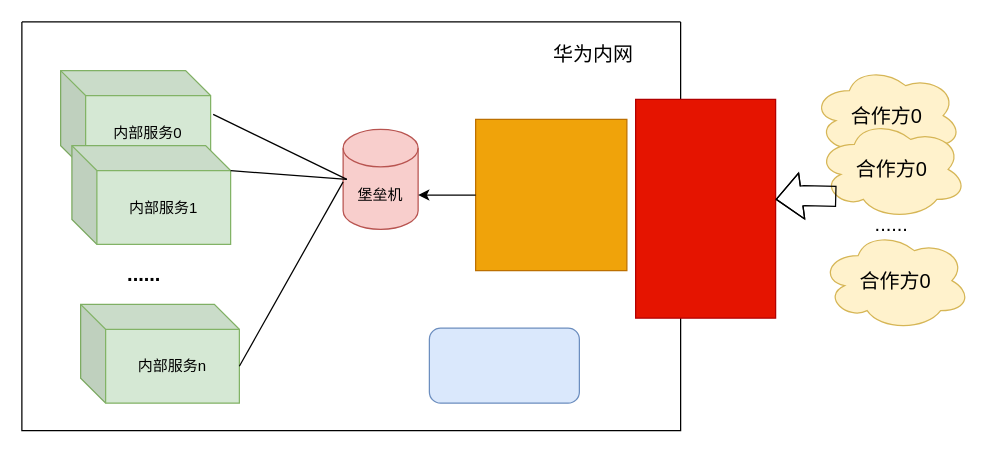
Image size: 993x453. Some labels were removed from this diagram. The shapes that lost their labels are listed below. From the top down, each one's centre as x and y in pixels, then its label:
At [550,194]: "开发机器".
At [705,208]: "防火墙 NAT 网关 ...".
At [503,365]: "内部客户".
